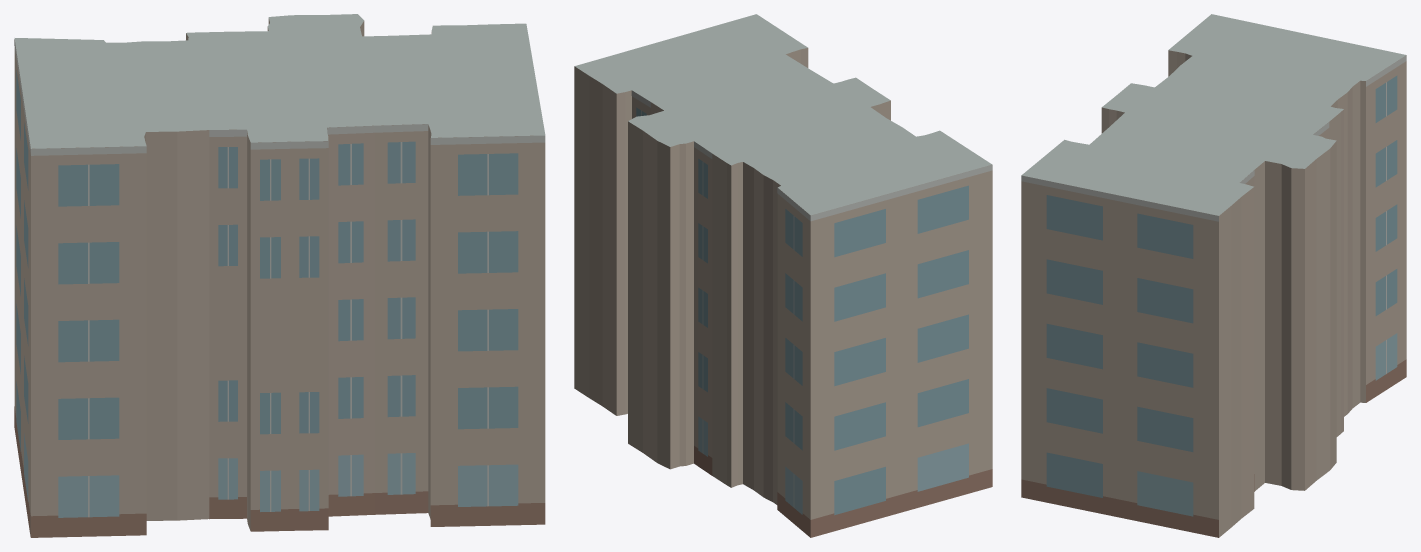
File: survey-upis-32852762.glb
The picture shows the model from 3 angles, left to right: view 1: azimuth 30°, elevation 25°; view 2: azimuth 150°, elevation 25°; view 3: azimuth 270°, elevation 25°; orthographic projection. The views are drawn at different scales.
Visible parts, largest first — view 1: survey-upis-32852762.tmp; view 2: survey-upis-32852762.tmp; view 3: survey-upis-32852762.tmp.
Part boxes in pixels (<box>): survey-upis-32852762.tmp: <box>14,14,545,537</box>; survey-upis-32852762.tmp: <box>574,14,992,537</box>; survey-upis-32852762.tmp: <box>1021,14,1406,537</box>.
Bounding box in the file's own units: 18.03 × 13.4 × 14.54.
